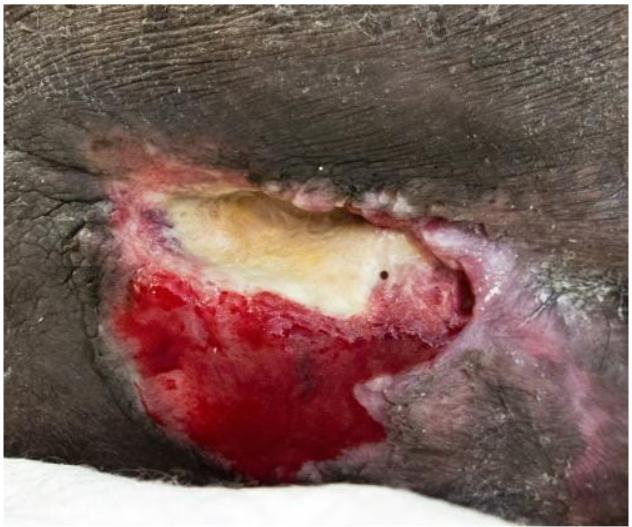Stage4: (98, 108, 518, 423)
